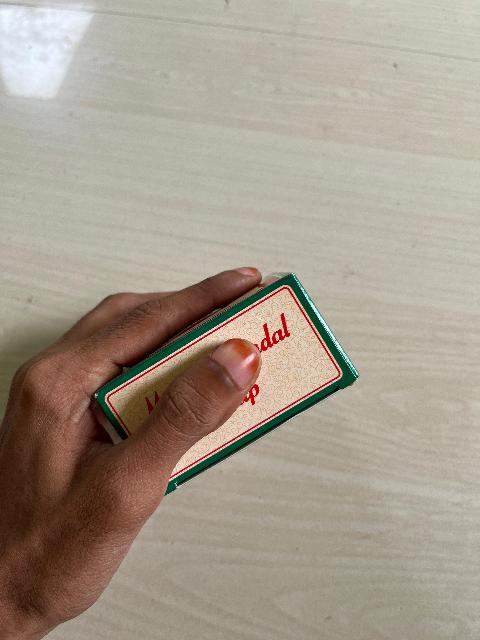hand: (74, 267, 261, 440)
mysore sandal soap: (260, 271, 358, 432)
